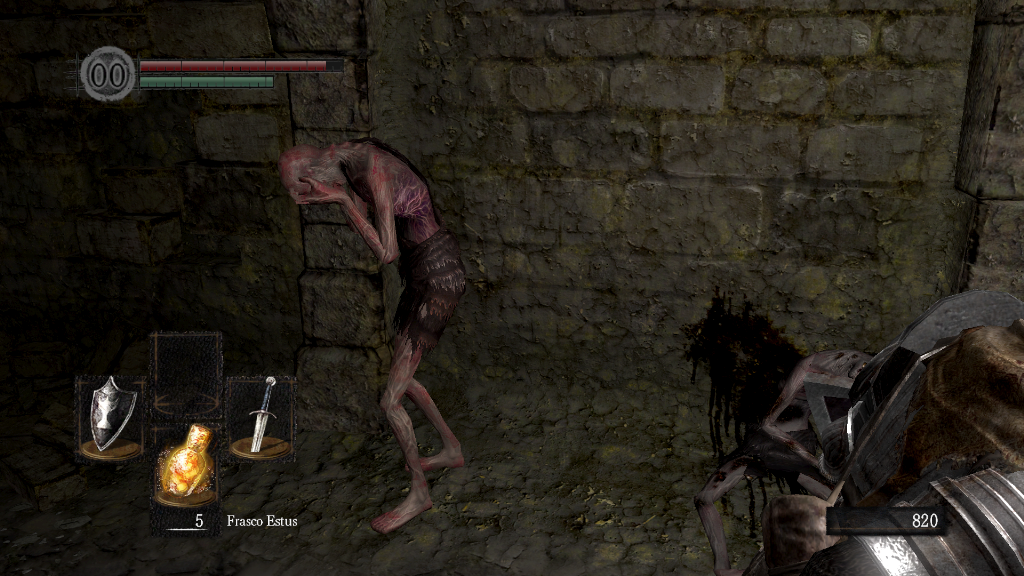health: (138, 58, 343, 71)
hollow: (276, 138, 469, 538)
humanity: (80, 45, 136, 102)
player: (759, 282, 1024, 573)
souls: (825, 506, 945, 536)
stamina: (138, 74, 274, 88)
